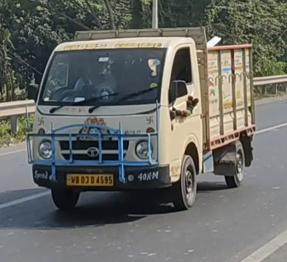Truck: (31, 22, 260, 216)
